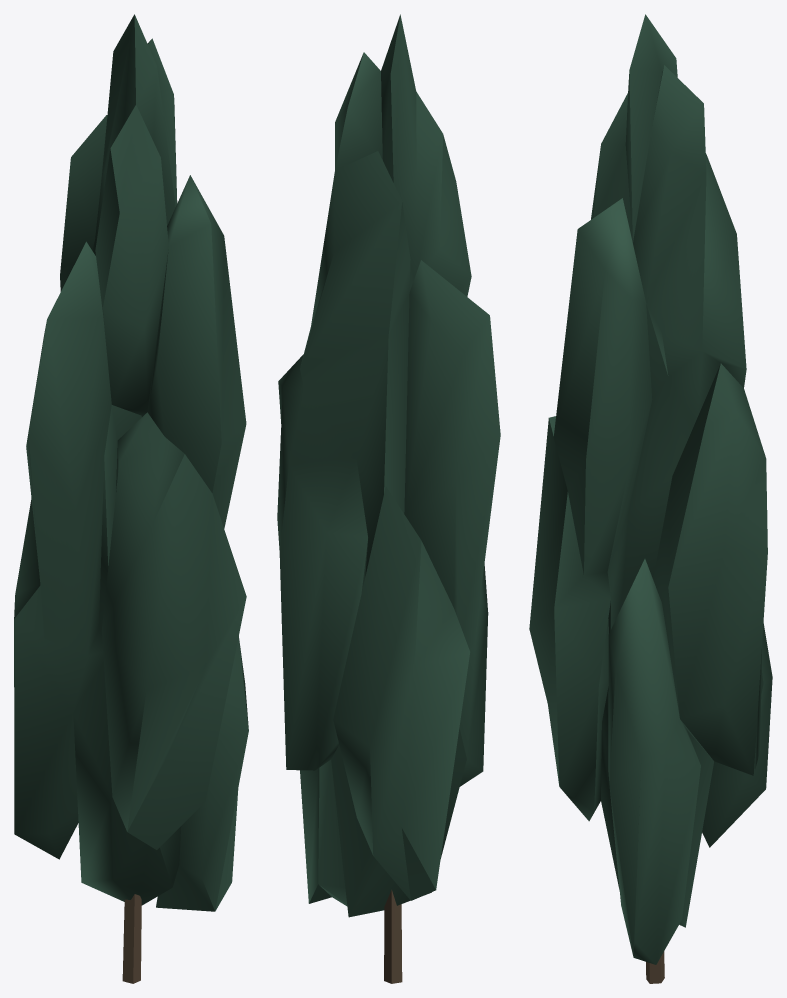
The picture shows the model from 3 angles, left to right: view 1: azimuth 30°, elevation 25°; view 2: azimuth 150°, elevation 25°; view 3: azimuth 270°, elevation 25°; orthographic projection.
Visible parts, largest first — view 1: Туя; view 2: Туя; view 3: Туя.
Part boxes in pixels (bbox=[...]): Туя: bbox=[14, 14, 248, 983]; Туя: bbox=[277, 14, 500, 983]; Туя: bbox=[529, 14, 772, 983].
Bounding box in the file's own units: 4.71 × 20.59 × 4.7.
